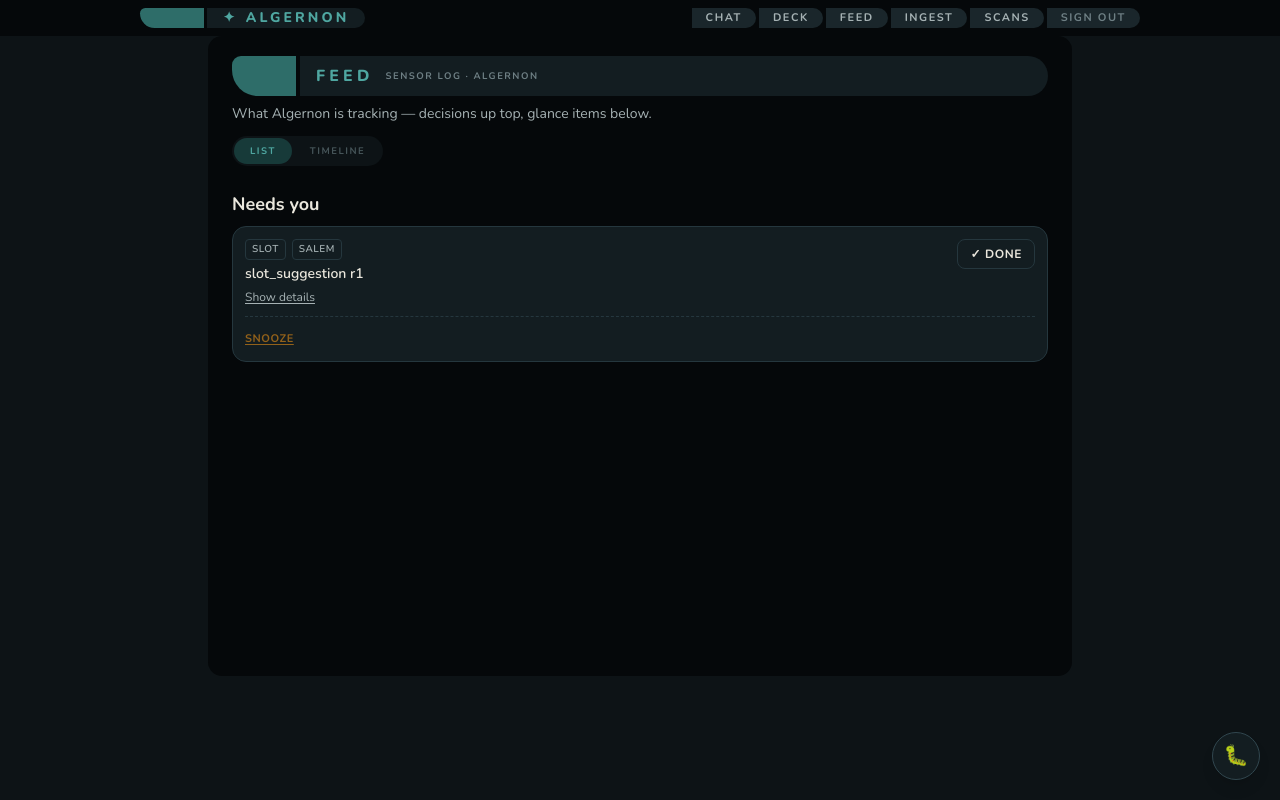
Test: FeedPage — needs-you reads the SAME truth as the row ✓ (no one-fetch lag) › a FAILED completion keeps the row in needs-you (the drop-out tracks success, not the tap)
The image size is (1280, 800).
Check: the list with test id "feed-pending" is shown, box [232,226,1048,362]
Step 1. Click the button with test id "feed-row-complete" → (996, 254), box [957,239,1035,269]
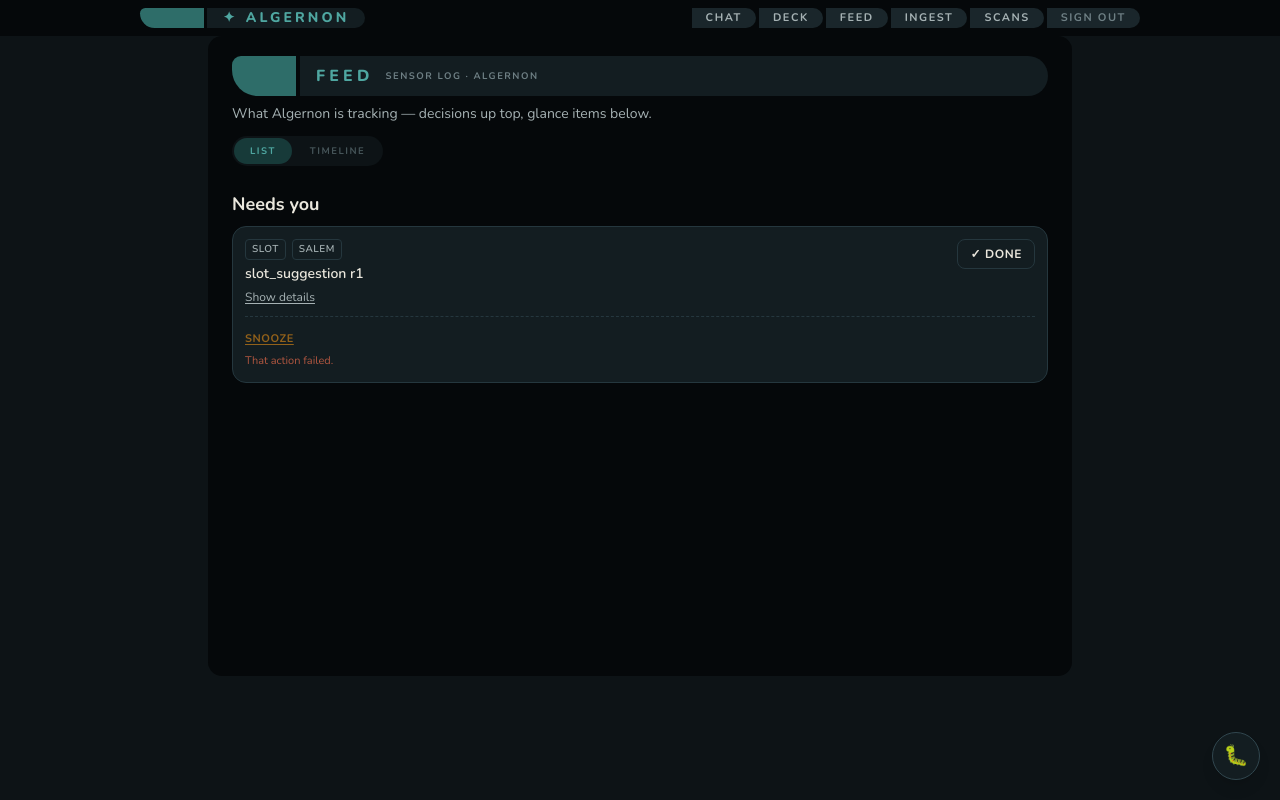
Check: the list with test id "feed-pending" is shown, box [232,226,1048,383]
Check: the message with test id "feed-row-completion-error" reads "That action failed.", box [245,353,333,368]
